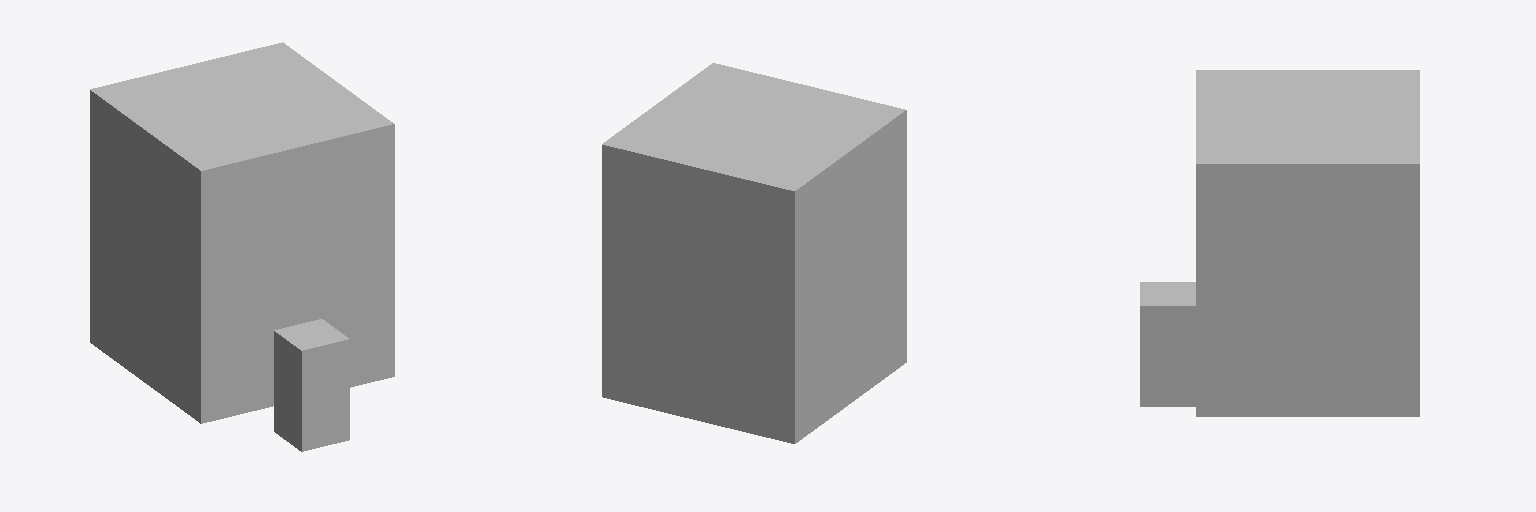
The model's file is villager_head.obj.
The picture shows the model from 3 angles: view 1: azimuth 30°, elevation 25°; view 2: azimuth 150°, elevation 25°; view 3: azimuth 270°, elevation 25°; orthographic projection.
Parts seen in each view (by area): view 1: Cube; view 2: Cube; view 3: Cube.
Part boxes in pixels (x1,y1,x2,y2): Cube: (90, 42, 394, 451); Cube: (602, 63, 906, 443); Cube: (1140, 70, 1419, 416).
Size of the model in its own units: 0.5 by 0.6875 by 0.625.